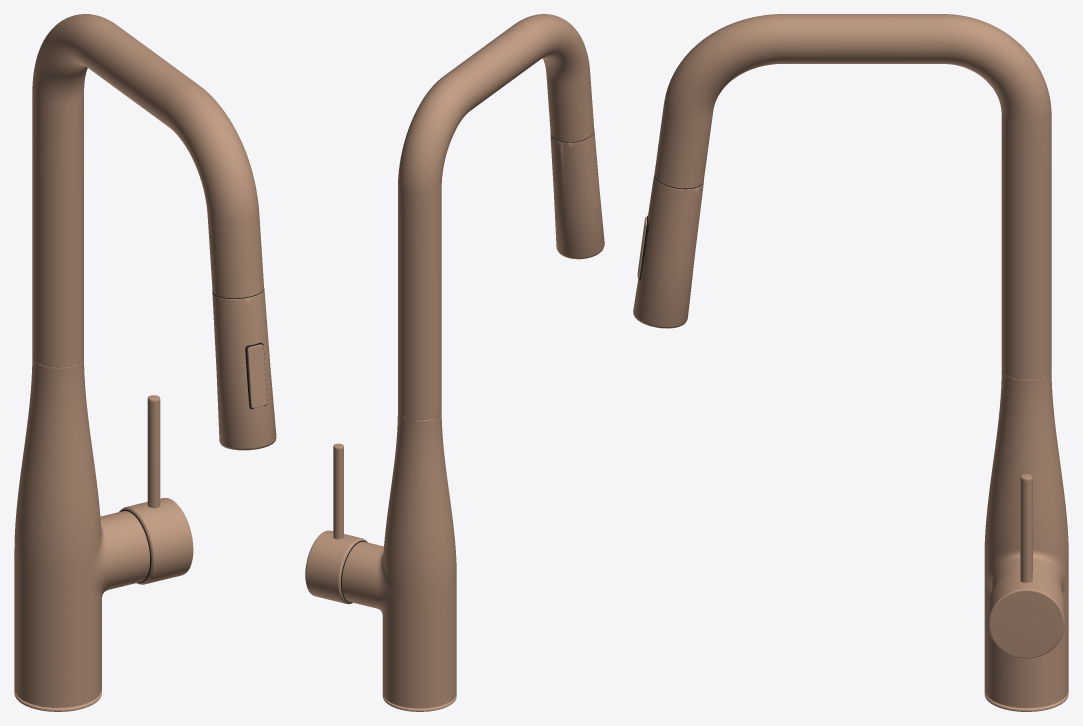
File: torneira-smooth-cobre.glb
The picture shows the model from 3 angles, left to right: view 1: azimuth 30°, elevation 25°; view 2: azimuth 150°, elevation 25°; view 3: azimuth 270°, elevation 25°; orthographic projection. The views are drawn at different scales.
Parts seen in each view (by area): view 1: Smooth · tubo de cantos arredondados, Smooth · corpo afunilado e ligação do comando, Corpo da bica extraível, Smooth · comando lateral, Smooth · pega vertical, Botão da bica; view 2: Smooth · tubo de cantos arredondados, Smooth · corpo afunilado e ligação do comando, Corpo da bica extraível, Smooth · comando lateral, Smooth · pega vertical; view 3: Smooth · tubo de cantos arredondados, Smooth · corpo afunilado e ligação do comando, Corpo da bica extraível, Smooth · comando lateral, Smooth · pega vertical.
Boxes of the visible parts, <box> form: Smooth · tubo de cantos arredondados: <box>32,14,263,366</box>; Smooth · corpo afunilado e ligação do comando: <box>14,358,149,707</box>; Corpo da bica extraível: <box>212,290,276,450</box>; Smooth · comando lateral: <box>119,497,193,584</box>; Smooth · pega vertical: <box>147,395,160,508</box>; Botão da bica: <box>247,344,267,408</box>; Smooth · tubo de cantos arredondados: <box>398,14,594,419</box>; Smooth · corpo afunilado e ligação do comando: <box>342,412,456,708</box>; Corpo da bica extraível: <box>550,130,604,259</box>; Smooth · comando lateral: <box>305,530,367,604</box>; Smooth · pega vertical: <box>333,443,343,539</box>; Smooth · tubo de cantos arredondados: <box>654,14,1051,379</box>; Smooth · corpo afunilado e ligação do comando: <box>984,370,1068,707</box>; Corpo da bica extraível: <box>633,175,703,328</box>; Smooth · comando lateral: <box>988,571,1064,658</box>; Smooth · pega vertical: <box>1020,474,1032,582</box>.
Bounding box in the file's own units: 0.0997 × 0.435 × 0.2532.
